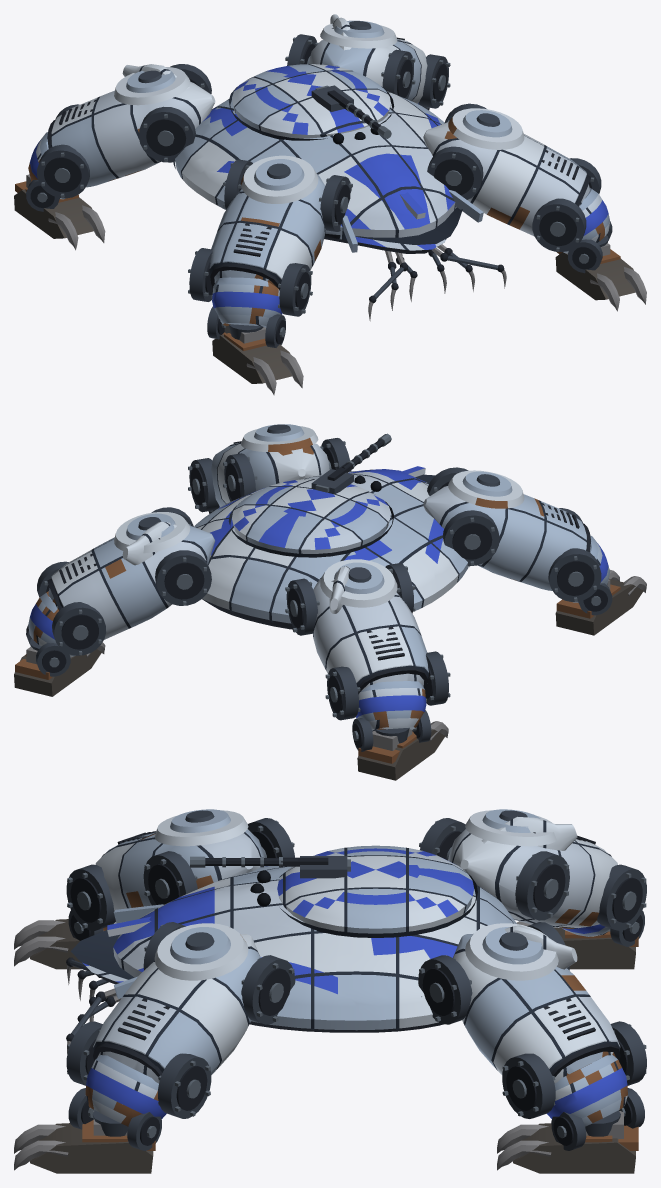
The model's file is crawler.glb.
The picture shows the model from 3 angles, top to bottom: view 1: azimuth 30°, elevation 25°; view 2: azimuth 150°, elevation 25°; view 3: azimuth 270°, elevation 25°; orthographic projection. The views are drawn at different scales.
Parts seen in each view (by area): view 1: leg1_upper, sp_body, leg0_upper, leg3_upper, sp_turret, leg2_upper, sp_claws, sp_fins; view 2: leg3_upper, leg2_upper, leg1_upper, sp_body, sp_turret, leg0_upper, sp_fins; view 3: leg0_upper, leg2_upper, sp_body, leg3_upper, leg1_upper, sp_turret, sp_fins, sp_claws.
Boxes of the visible parts, x1=… form: leg1_upper: x1=188, y1=155, x2=352, y2=395; sp_body: x1=173, y1=91, x2=483, y2=253; leg0_upper: x1=423, y1=103, x2=646, y2=311; leg3_upper: x1=14, y1=64, x2=215, y2=250; sp_turret: x1=228, y1=64, x2=394, y2=144; leg2_upper: x1=285, y1=20, x2=450, y2=110; sp_claws: x1=368, y1=244, x2=506, y2=321; sp_fins: x1=122, y1=14, x2=351, y2=88; leg3_upper: x1=285, y1=559, x2=450, y2=780; leg2_upper: x1=14, y1=507, x2=215, y2=696; leg1_upper: x1=423, y1=467, x2=646, y2=635; sp_body: x1=194, y1=466, x2=469, y2=629; sp_turret: x1=228, y1=433, x2=394, y2=557; leg0_upper: x1=188, y1=424, x2=351, y2=513; sp_fins: x1=122, y1=521, x2=350, y2=613; leg0_upper: x1=14, y1=922, x2=295, y2=1173; leg2_upper: x1=418, y1=922, x2=646, y2=1173; sp_body: x1=70, y1=866, x2=516, y2=1032; leg3_upper: x1=419, y1=809, x2=646, y2=969; leg1_upper: x1=14, y1=809, x2=294, y2=969; sp_turret: x1=190, y1=845, x2=477, y2=937; sp_fins: x1=481, y1=816, x2=577, y2=969; sp_claws: x1=66, y1=957, x2=121, y2=1053.
Bounding box in the file's own units: 6.12 × 2.37 × 6.68.
